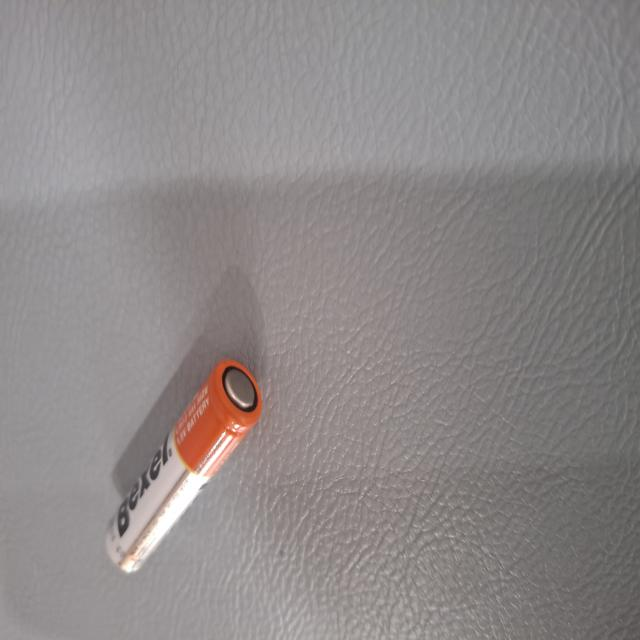AAA: (267, 502, 428, 640)
